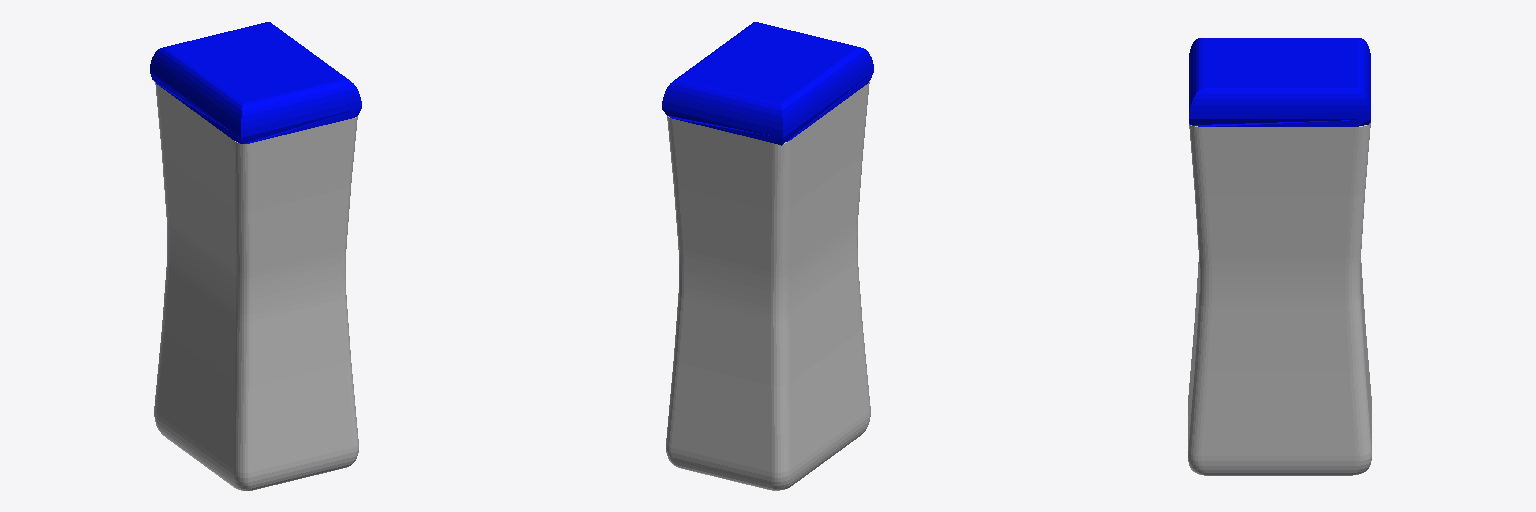
File: shampooBottle_OBJ.obj
3 renders of one model, left to right at view 1: azimuth 30°, elevation 25°; view 2: azimuth 150°, elevation 25°; view 3: azimuth 270°, elevation 25°, orthographic.
Parts seen in each view (by area): view 1: Cube; view 2: Cube; view 3: Cube.
Part boxes in pixels (left/top/right/bottom): Cube: left=150, top=22, right=361, bottom=490; Cube: left=662, top=22, right=873, bottom=490; Cube: left=1188, top=38, right=1371, bottom=475.
Bounding box in the file's own units: 0.8712 × 2.62 × 1.13.